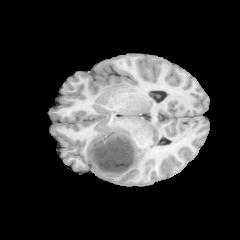glioma: (87, 114, 148, 179)
